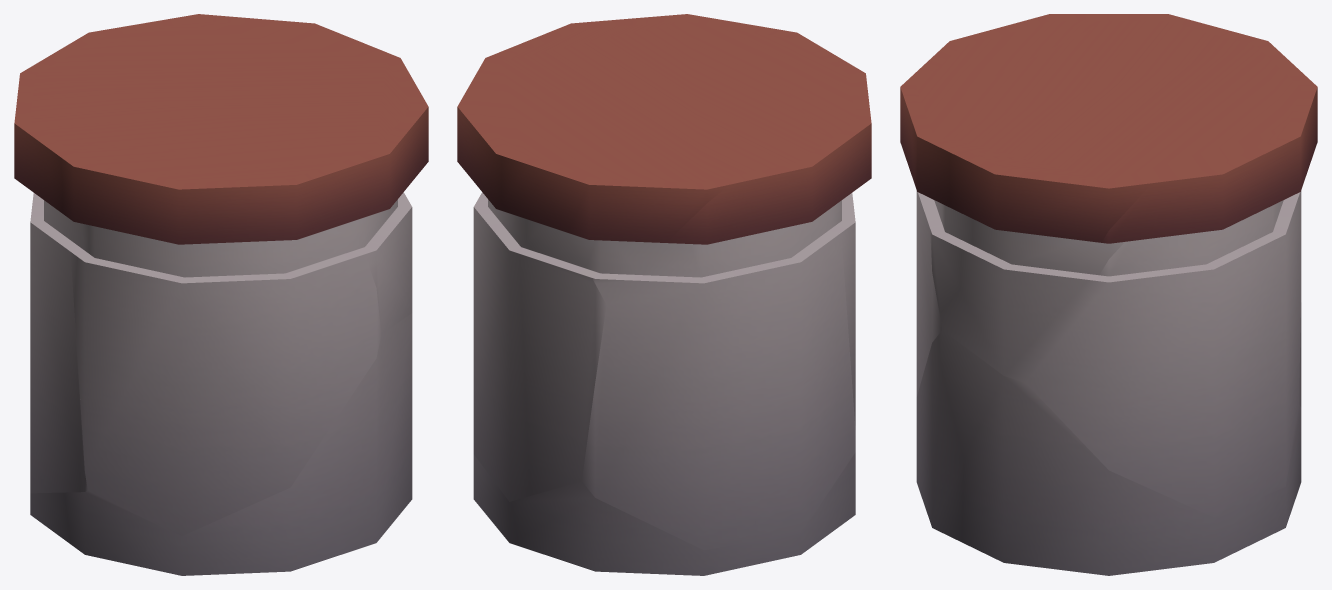
Rendered from M_jam_fragments.FBX.
The picture shows the model from 3 angles, left to right: view 1: azimuth 30°, elevation 25°; view 2: azimuth 150°, elevation 25°; view 3: azimuth 270°, elevation 25°; orthographic projection.
Parts seen in each view (by area): view 1: Cylinder011_Part_5, Cylinder011_Part_3, Cylinder011_Part_4, Cylinder011_Part_1, Cylinder011_Part_2; view 2: Cylinder011_Part_1, Cylinder011_Part_3, Cylinder011_Part_2, Cylinder011_Part_4, Cylinder011_Part_5; view 3: Cylinder011_Part_3, Cylinder011_Part_2, Cylinder011_Part_4, Cylinder011_Part_5, Cylinder011_Part_1.
Boxes of the visible parts, x1,y1,x2,y2 form: Cylinder011_Part_5: (48,143,381,535); Cylinder011_Part_3: (19,21,428,333); Cylinder011_Part_4: (30,313,412,575); Cylinder011_Part_1: (14,84,87,493); Cylinder011_Part_2: (158,14,366,44); Cylinder011_Part_1: (582,132,855,550); Cylinder011_Part_3: (475,14,819,304); Cylinder011_Part_2: (457,77,606,501); Cylinder011_Part_4: (473,452,855,575); Cylinder011_Part_5: (728,21,871,429); Cylinder011_Part_3: (911,28,1317,382); Cylinder011_Part_2: (1025,118,1313,517); Cylinder011_Part_4: (916,330,1301,575); Cylinder011_Part_5: (900,14,1100,396); Cylinder011_Part_1: (1093,14,1301,407).
Bounding box in the file's own units: 13.11 × 13.25 × 13.81.
